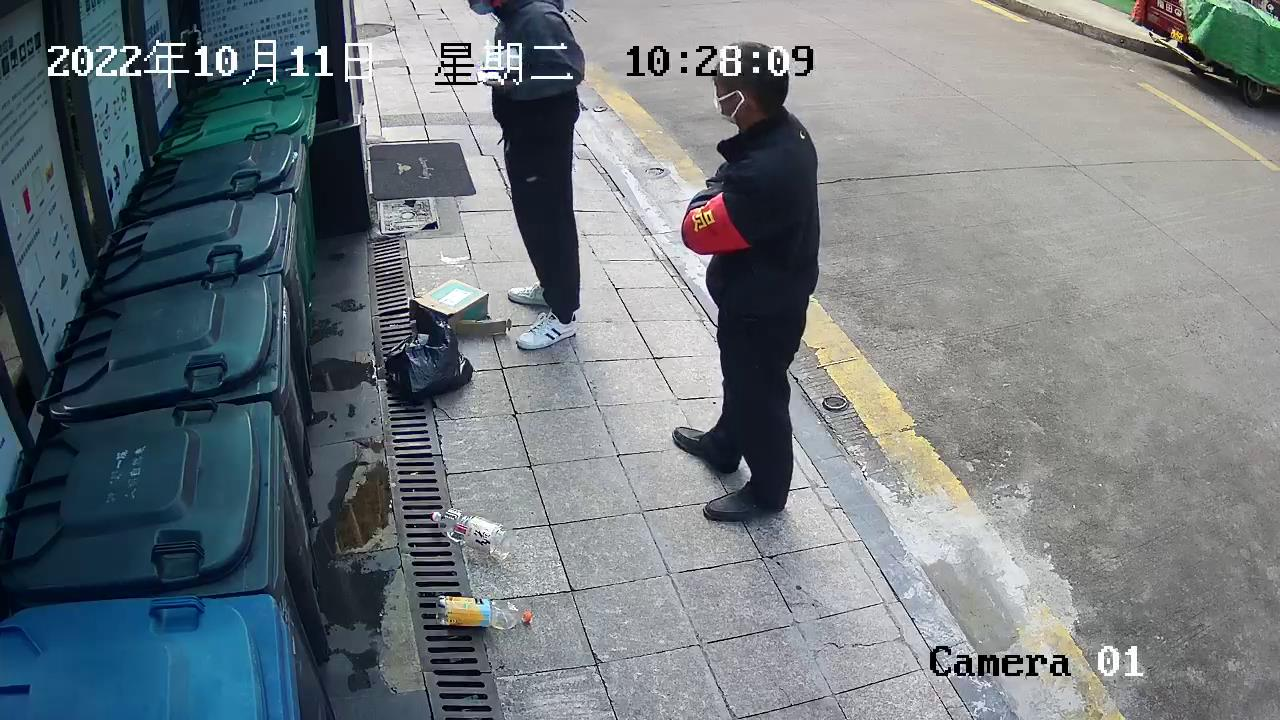garbage-bag: (379, 307, 483, 409)
person: (458, 1, 599, 356)
suliaozhipin: (425, 505, 516, 567), (426, 588, 538, 638)
worker: (666, 33, 828, 528)
zhizhipin: (406, 275, 517, 340)
